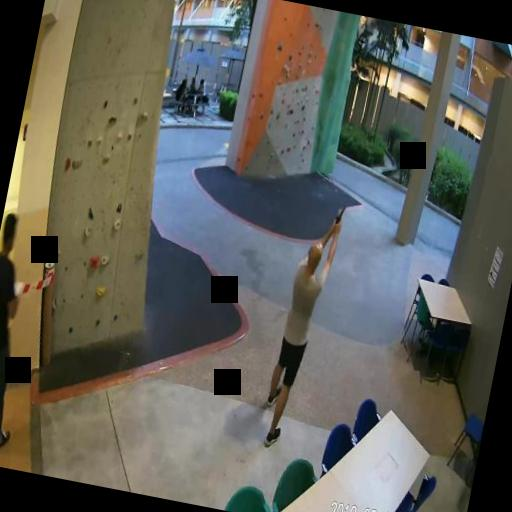Handgun: (332, 202, 344, 226)
